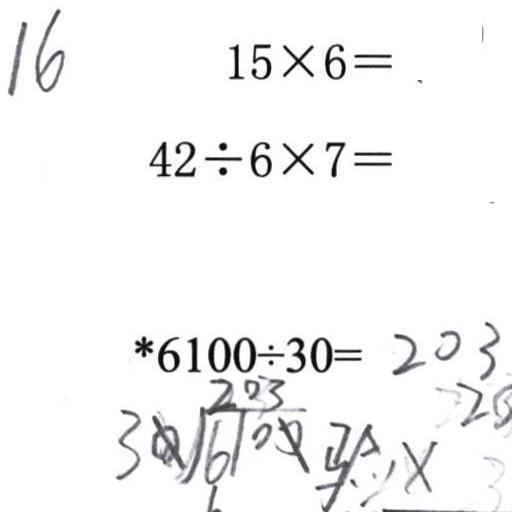ans: (394, 318, 501, 380), (1, 6, 66, 96)
